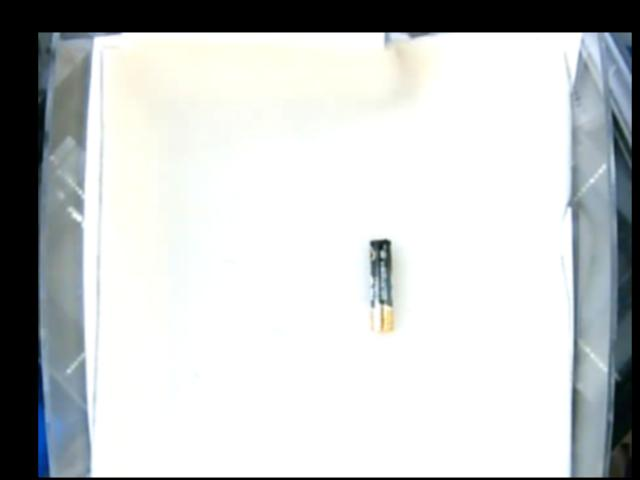Battery: (369, 239, 394, 335)
